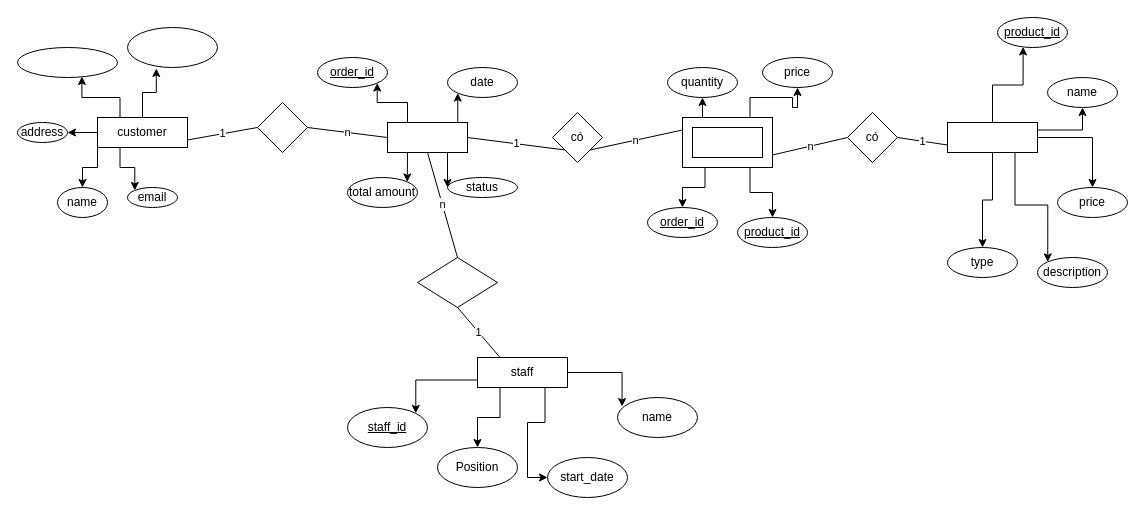
Image size: 1145x515. Some labels were removed from this diagram. The shapes that lost their labels are listed below. From the top down, each one's centre as x and y in pixels, then its label:
At (67,62): "customer_id".
At (172,47): "phone_number".
At (282,127): "đặt".
At (427,137): "order".
At (727,142): "orderdetail".
At (992,137): "product".
At (457,282): "phụ trách".
